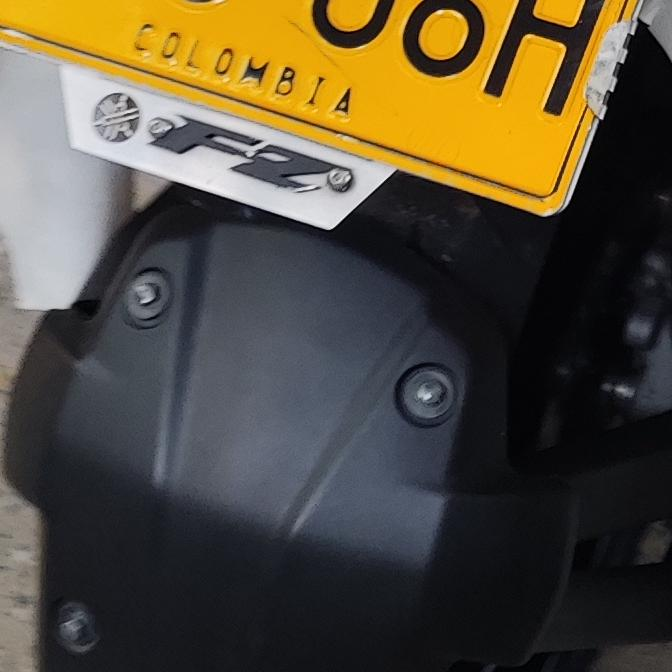plates: (0, 0, 635, 215)
